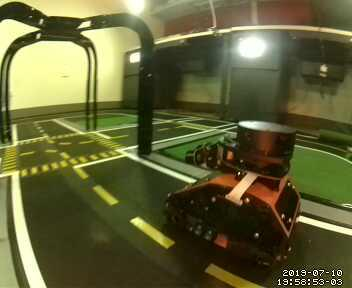pheeno: (162, 116, 304, 267)
